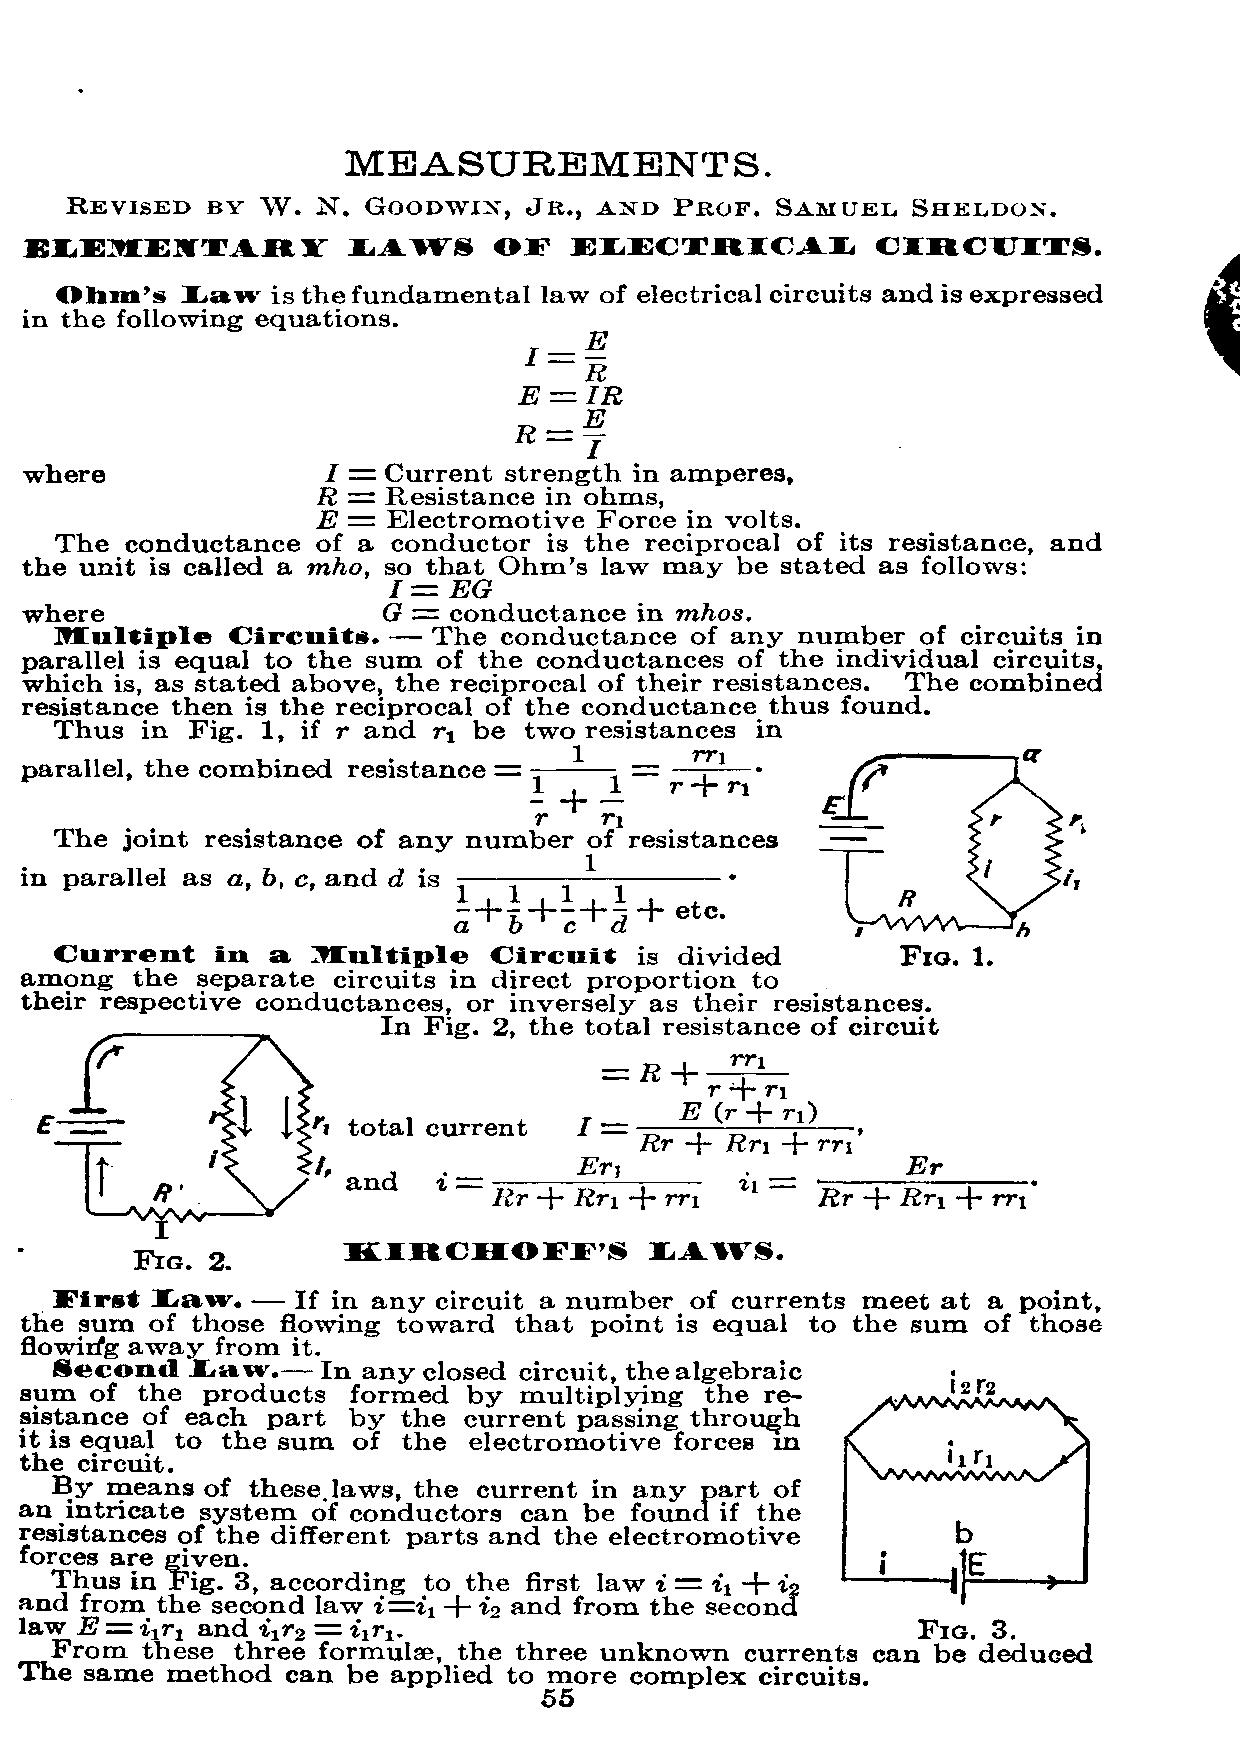chapter: (63, 146, 1060, 221), (19, 229, 1102, 260), (340, 1239, 786, 1267)
content: (19, 280, 1104, 1219), (16, 1286, 1104, 1690)
content_pagenumber: (539, 1687, 574, 1708)
